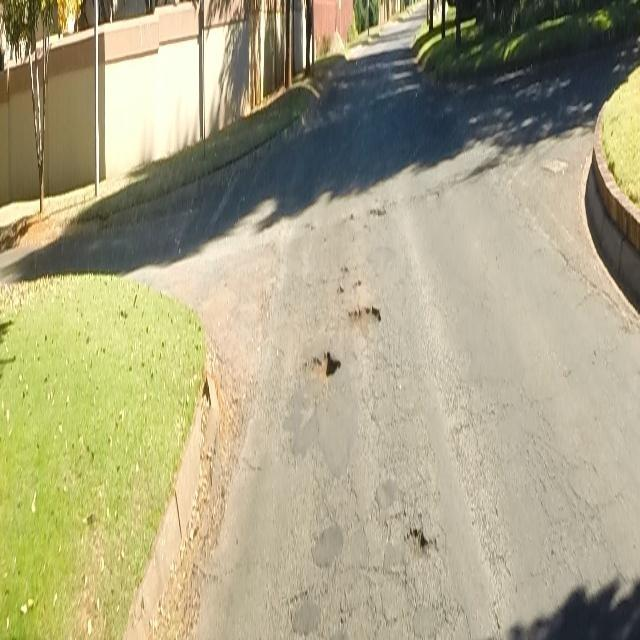pothole: (303, 348, 342, 384), (402, 521, 440, 557), (346, 306, 384, 330)
